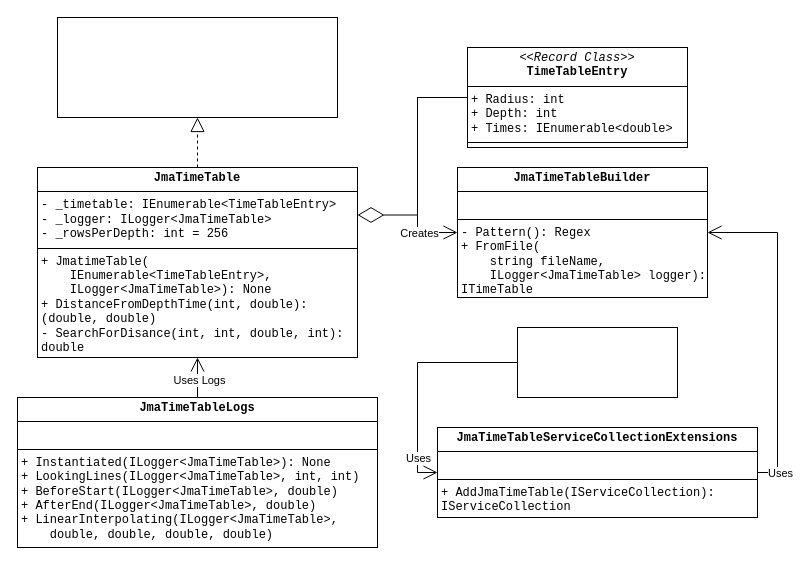
Some shapes in this 810 by 565 pixel diagram are drawn without their labels. The shapes that lost their labels are listed below. From the top down, each one's centre as x and y in pixels, then its label:
(197,67): <<Interface>> ITimeTable + DistanceFromDepthTime(int, double): (double, double)
(597,362): <<Record Class>> JmaTimeTableOptions + FilePath: string
